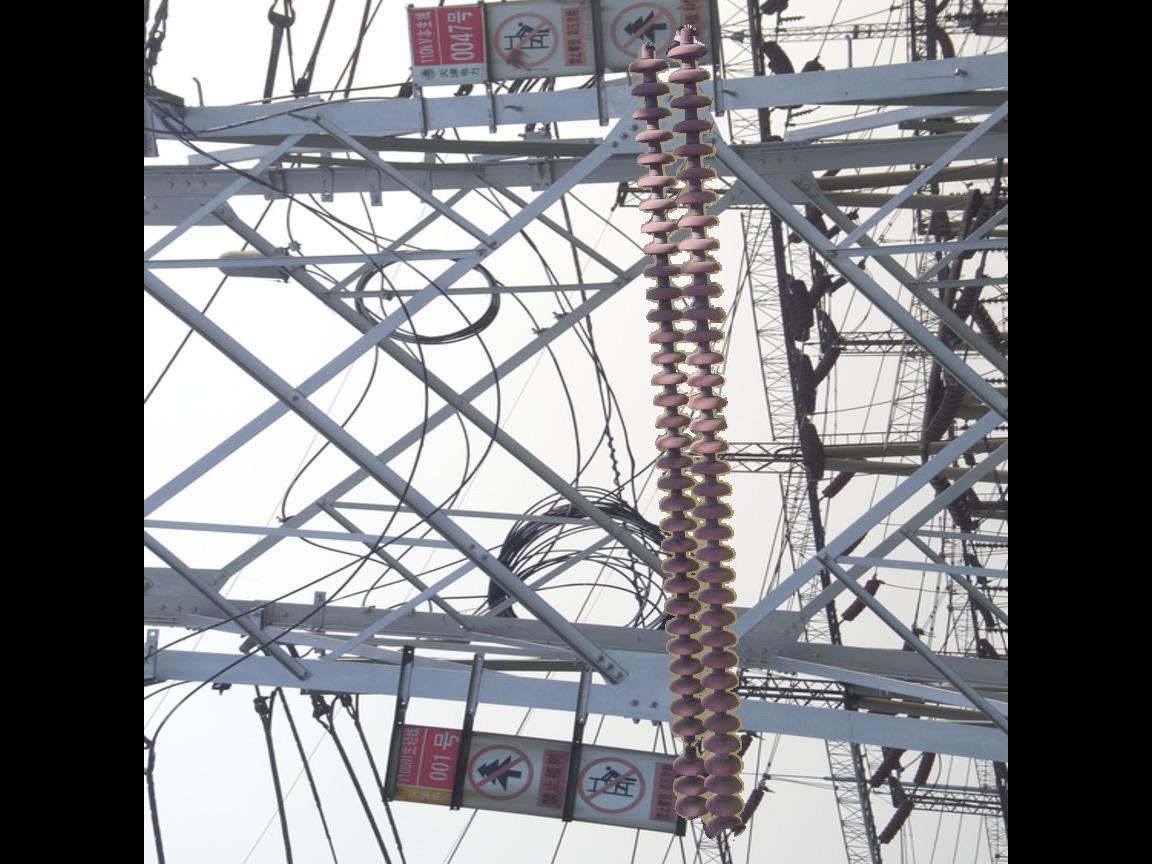insulator: (628, 35, 750, 839)
insulator_stringdrop: (667, 715, 707, 779)
